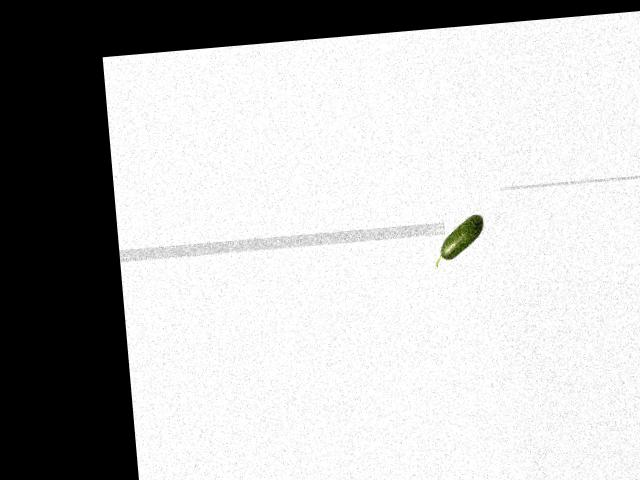cucumber: (430, 213, 485, 266)
